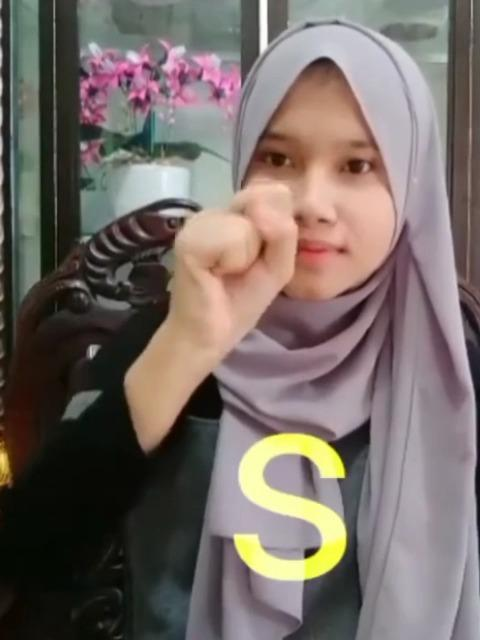S: (167, 173, 310, 345)
